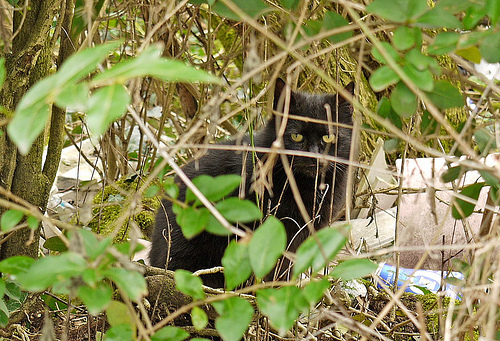litter: (371, 261, 468, 308)
